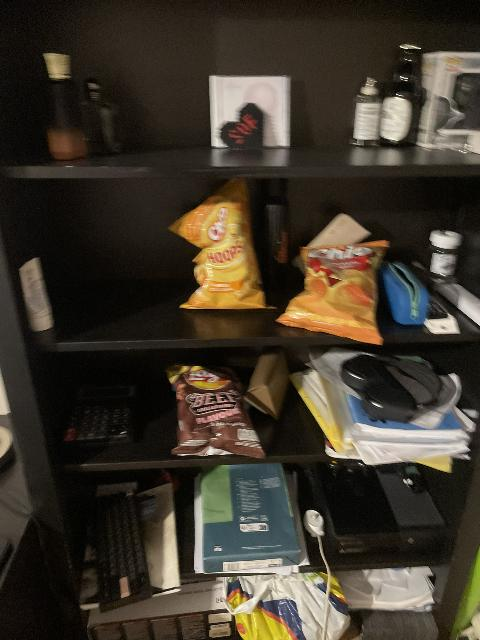Chio Cascaval 125g: (273, 238, 379, 344)
Chio Hula Hoops Cheese 70g: (168, 177, 276, 311)
Lays Beef Grilled Ribs 125g: (165, 362, 263, 458)
